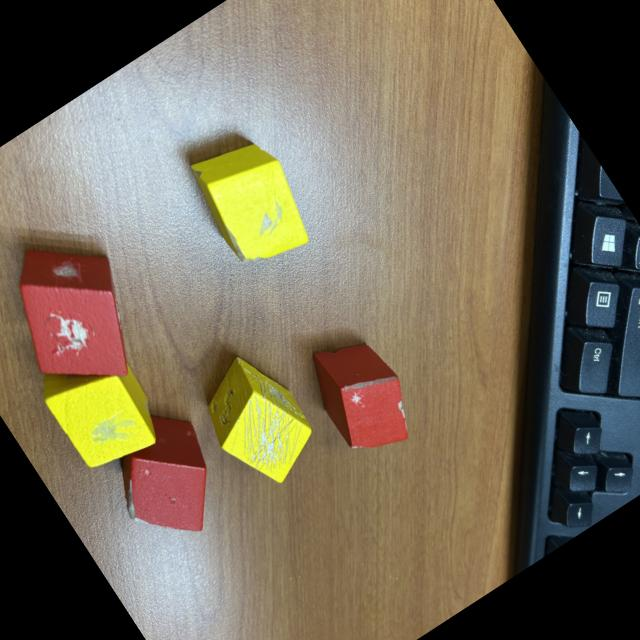broken: (0, 213, 167, 412), (89, 398, 244, 558), (182, 341, 332, 504), (178, 120, 326, 280), (32, 334, 174, 482), (294, 321, 429, 468)
